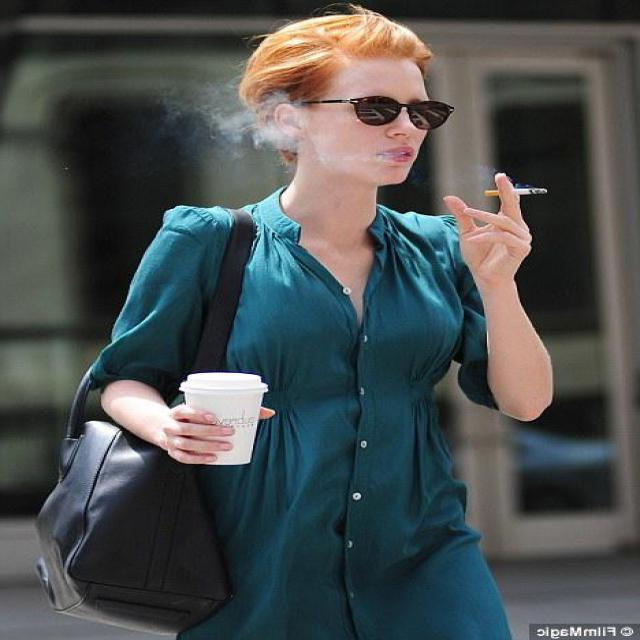cigarette: (478, 175, 552, 200)
